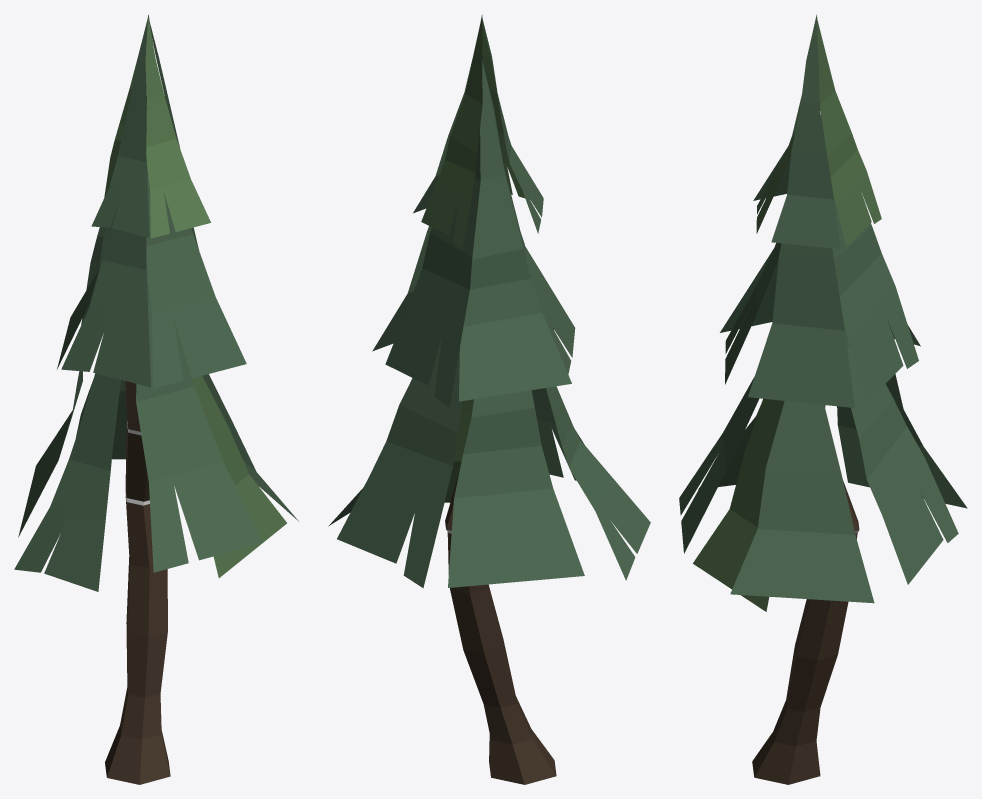
The model's file is tree5.glb.
3 views of the same model, side by side, from view 1: azimuth 30°, elevation 25°; view 2: azimuth 150°, elevation 25°; view 3: azimuth 270°, elevation 25° (orthographic). The views are drawn at different scales.
Visible parts, largest first — view 1: Plane.049, Cylinder.007, Plane.050, Plane.044, Plane.045, Plane.055, Plane.056, Plane.052, Plane.051, Plane.048, Plane.047, Plane.046 (+2 smaller); view 2: Plane.051, Plane.046, Plane.047, Plane.042, Cylinder.007, Plane.053, Plane.050, Plane.045, Plane.049, Plane.056, Plane.055, Plane.043 (+2 smaller); view 3: Plane.048, Plane.043, Plane.047, Cylinder.007, Plane.042, Plane.054, Plane.052, Plane.053, Plane.049, Plane.051, Plane.044, Plane.045 (+3 smaller).
Part boxes in pixels (<box>): Plane.049: <box>136,270,263,572</box>; Cylinder.007: <box>105,381,170,784</box>; Plane.050: <box>14,373,121,591</box>; Plane.044: <box>146,166,246,388</box>; Plane.045: <box>61,60,150,387</box>; Plane.055: <box>145,14,210,238</box>; Plane.056: <box>91,18,149,237</box>; Plane.052: <box>173,316,286,577</box>; Plane.051: <box>18,371,82,537</box>; Plane.048: <box>202,374,298,521</box>; Plane.047: <box>75,380,126,459</box>; Plane.046: <box>57,227,107,369</box>; Plane.051: <box>448,390,584,587</box>; Plane.046: <box>459,60,571,401</box>; Plane.047: <box>337,337,462,587</box>; Plane.042: <box>385,130,480,407</box>; Cylinder.007: <box>445,473,556,784</box>; Plane.053: <box>421,14,482,249</box>; Plane.050: <box>546,386,650,580</box>; Plane.045: <box>484,70,575,374</box>; Plane.049: <box>531,388,584,480</box>; Plane.056: <box>482,20,543,233</box>; Plane.055: <box>481,15,529,198</box>; Plane.043: <box>372,226,431,351</box>; Plane.048: <box>730,401,874,603</box>; Plane.043: <box>748,58,854,407</box>; Plane.047: <box>844,326,958,584</box>; Cylinder.007: <box>752,405,859,784</box>; Plane.042: <box>818,72,918,404</box>; Plane.054: <box>771,15,840,249</box>; Plane.052: <box>693,398,784,611</box>; Plane.053: <box>816,14,881,246</box>; Plane.049: <box>679,377,759,553</box>; Plane.051: <box>832,252,967,508</box>; Plane.044: <box>725,243,781,384</box>; Plane.045: <box>720,243,778,332</box>.
Size of the model in its own units: 2.28 by 6.21 by 2.12.
